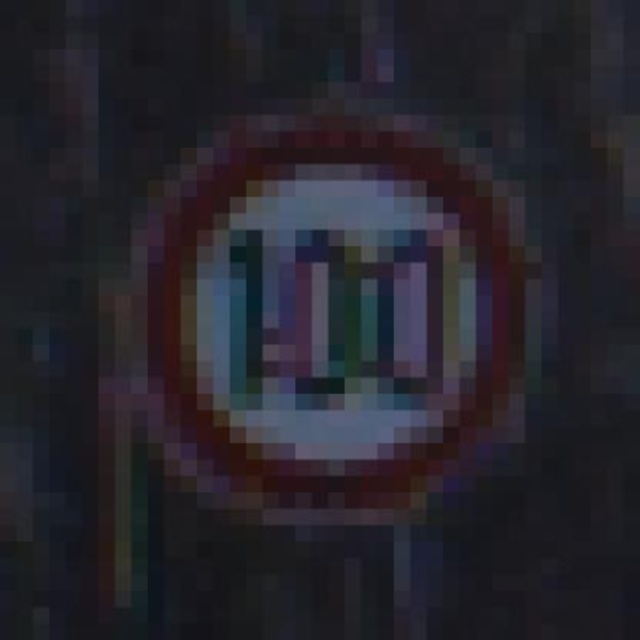Tốc độ tối đa cho phép 100km/h: (140, 116, 525, 512)
